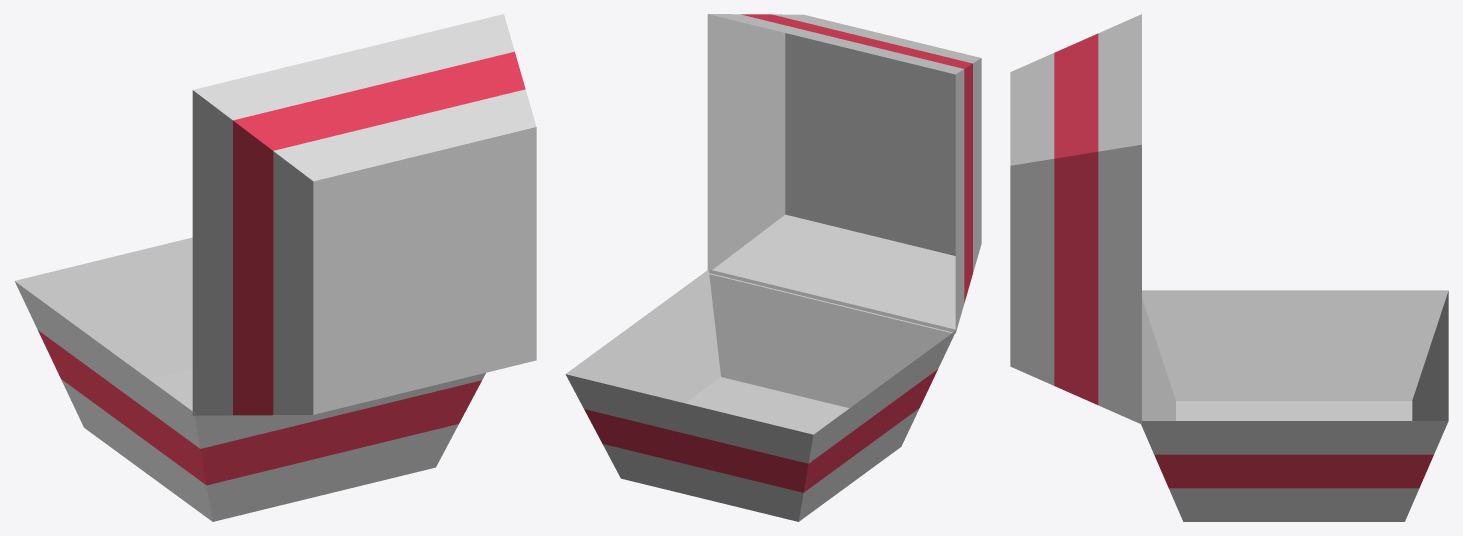
3 views of the same model, side by side, from view 1: azimuth 30°, elevation 25°; view 2: azimuth 150°, elevation 25°; view 3: azimuth 270°, elevation 25° (orthographic). The views are drawn at different scales.
Parts seen in each view (by area): view 1: Cube.001, Cube; view 2: Cube.001, Cube; view 3: Cube, Cube.001.
Boxes of the visible parts, left/top/right/bottom form: Cube.001: left=192, top=14, right=536, bottom=415; Cube: left=14, top=237, right=485, bottom=521; Cube.001: left=707, top=14, right=981, bottom=333; Cube: left=565, top=269, right=956, bottom=521; Cube: left=1139, top=290, right=1448, bottom=521; Cube.001: left=1010, top=14, right=1141, bottom=424.
Bounding box in the file's own units: 200 × 283 × 284.
